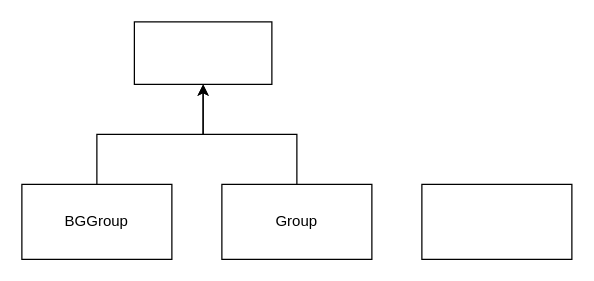
The diagram is 594 pixels wide and 281 high, and some of its shapes have lost their labels. The shapes that lost their labels are listed below. From the top down, each one's box as (x1, y1, x2, y2) in pixels, then its label:
(133, 21, 272, 84): «interface» IContainerable
(421, 183, 572, 259): EditableGroup
